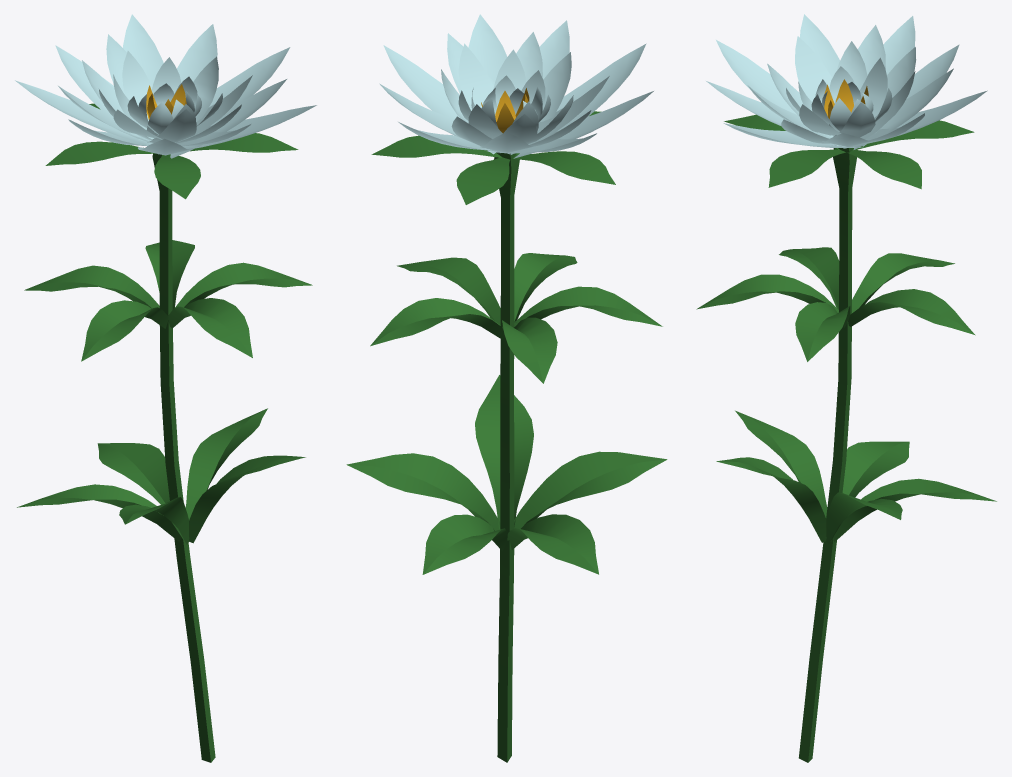
File: plant_lotus_flower_C.fbx
The picture shows the model from 3 angles, left to right: view 1: azimuth 30°, elevation 25°; view 2: azimuth 150°, elevation 25°; view 3: azimuth 270°, elevation 25°; orthographic projection. The views are drawn at different scales.
Parts seen in each view (by area): view 1: lotus_flower_C_leaves, lotus_flower_C, lotus_flower_C_twig, lotus_flower_C_top_leaf; view 2: lotus_flower_C_leaves, lotus_flower_C, lotus_flower_C_twig, lotus_flower_C_top_leaf; view 3: lotus_flower_C_leaves, lotus_flower_C, lotus_flower_C_twig, lotus_flower_C_top_leaf.
Part boxes in pixels (<box>): lotus_flower_C_leaves: <box>17,240,312,544</box>; lotus_flower_C: <box>15,14,316,158</box>; lotus_flower_C_twig: <box>152,153,215,762</box>; lotus_flower_C_top_leaf: <box>45,103,298,199</box>; lotus_flower_C_leaves: <box>346,253,667,574</box>; lotus_flower_C: <box>379,14,653,158</box>; lotus_flower_C_twig: <box>494,152,519,762</box>; lotus_flower_C_top_leaf: <box>371,111,615,204</box>; lotus_flower_C_leaves: <box>696,247,996,544</box>; lotus_flower_C: <box>706,14,987,149</box>; lotus_flower_C_twig: <box>798,148,856,762</box>; lotus_flower_C_top_leaf: <box>724,114,974,189</box>.
Bounding box in the file's own units: 42.5 × 111 × 44.73.
